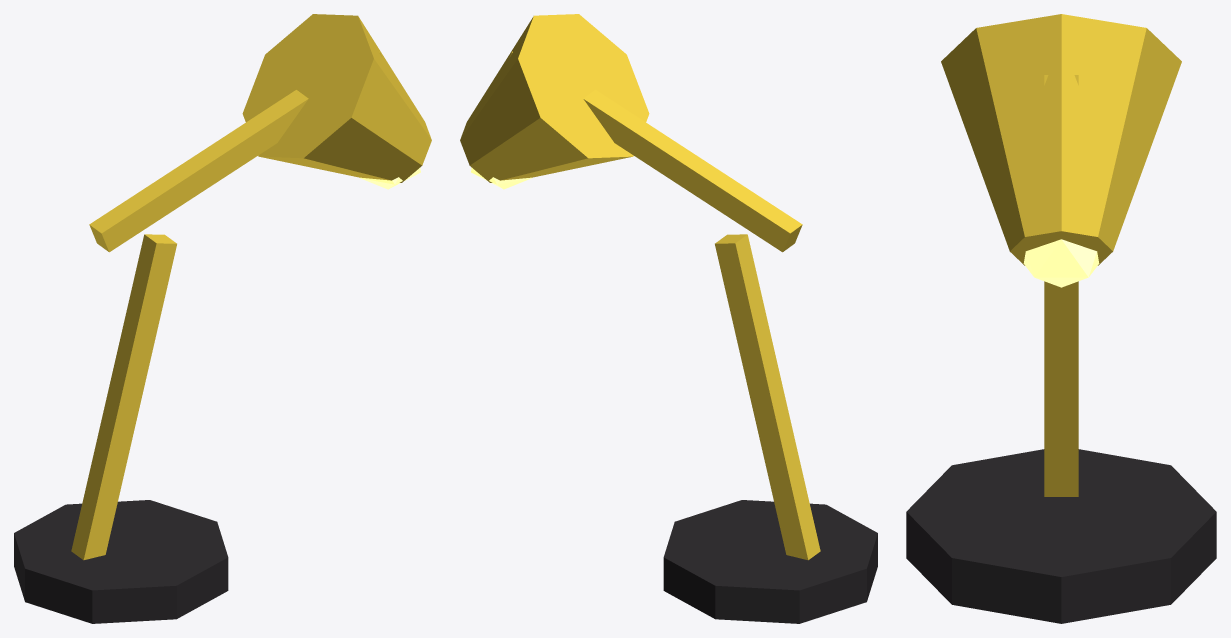
Rendered from desk_lamp.glb.
3 views of the same model, side by side, from view 1: azimuth 30°, elevation 25°; view 2: azimuth 150°, elevation 25°; view 3: azimuth 270°, elevation 25° (orthographic). The views are drawn at different scales.
Parts seen in each view (by area): view 1: desk_lamp; view 2: desk_lamp; view 3: desk_lamp.
Part boxes in pixels (x1,y1,x2,y2): desk_lamp: [14, 14, 431, 623]; desk_lamp: [460, 14, 877, 623]; desk_lamp: [906, 14, 1216, 623].
Size of the model in its own units: 0.3747 by 0.4522 by 0.18.
